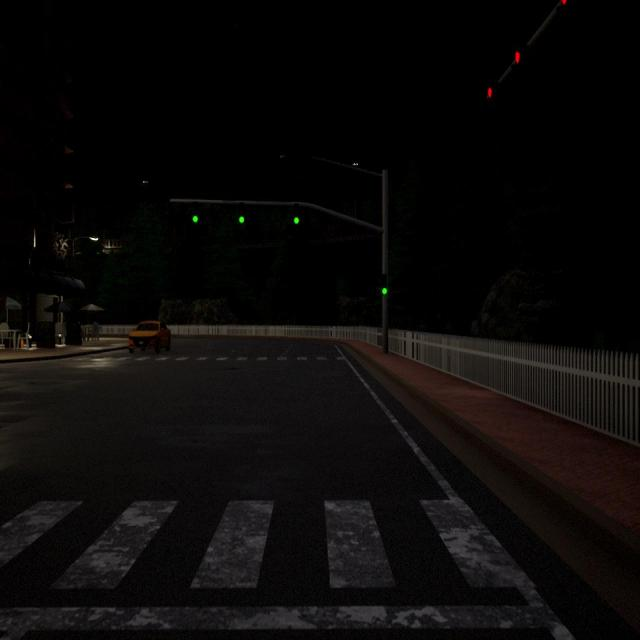Vehicle: (127, 320, 171, 354)
traffic_light: (192, 201, 199, 223), (238, 202, 245, 224), (294, 203, 300, 225), (381, 273, 387, 295), (514, 50, 521, 65), (487, 86, 493, 99), (561, 0, 566, 6)
